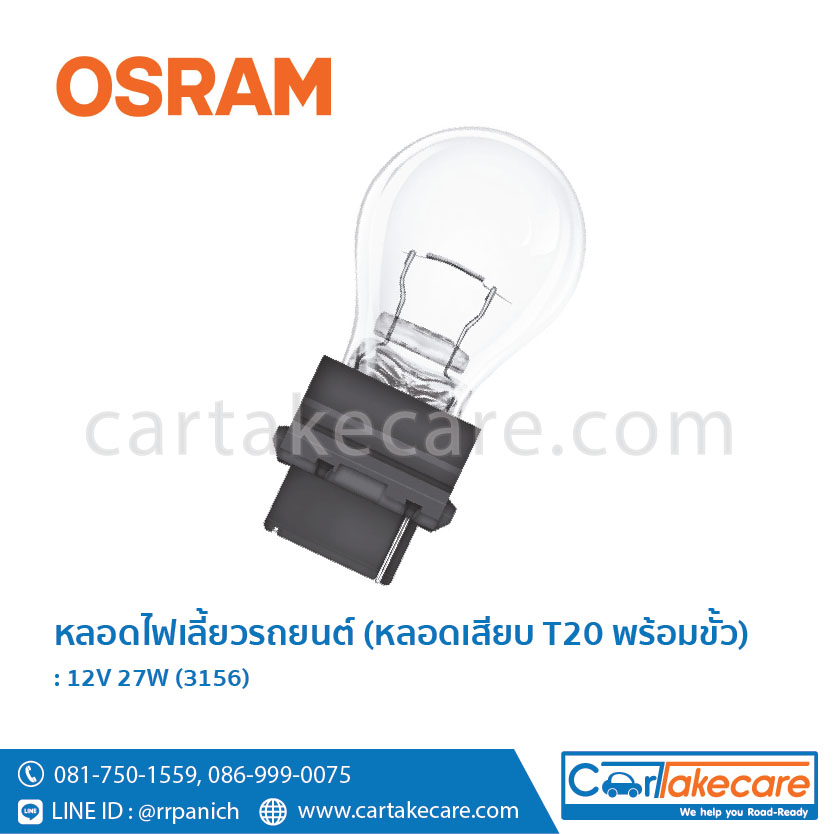Light_bulb: (273, 116, 595, 584)
